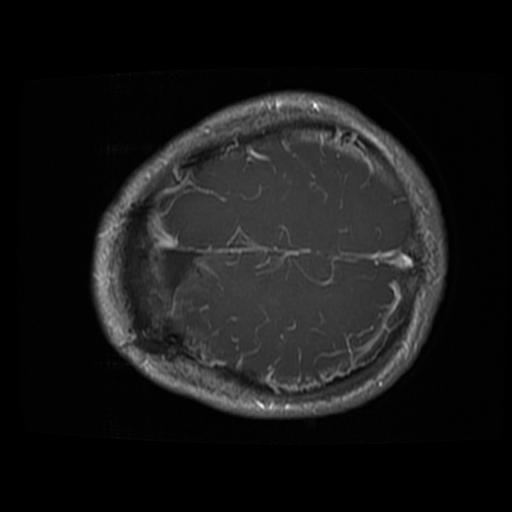glioma: (118, 201, 196, 354)
